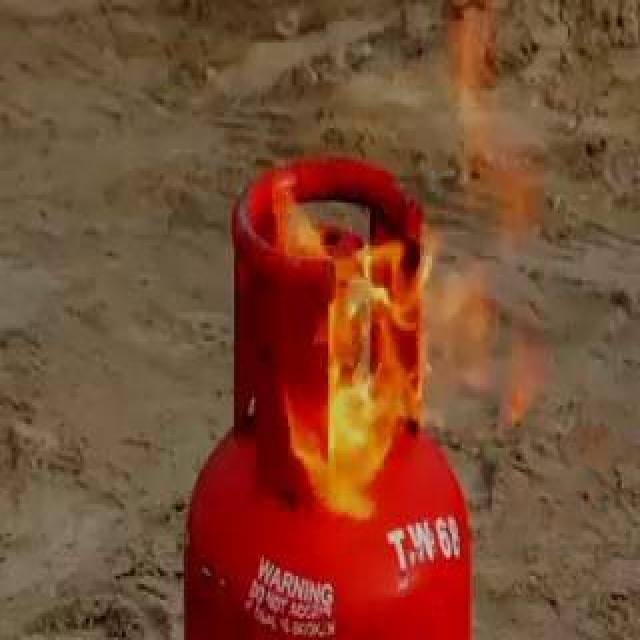Fire: (257, 21, 619, 528)
